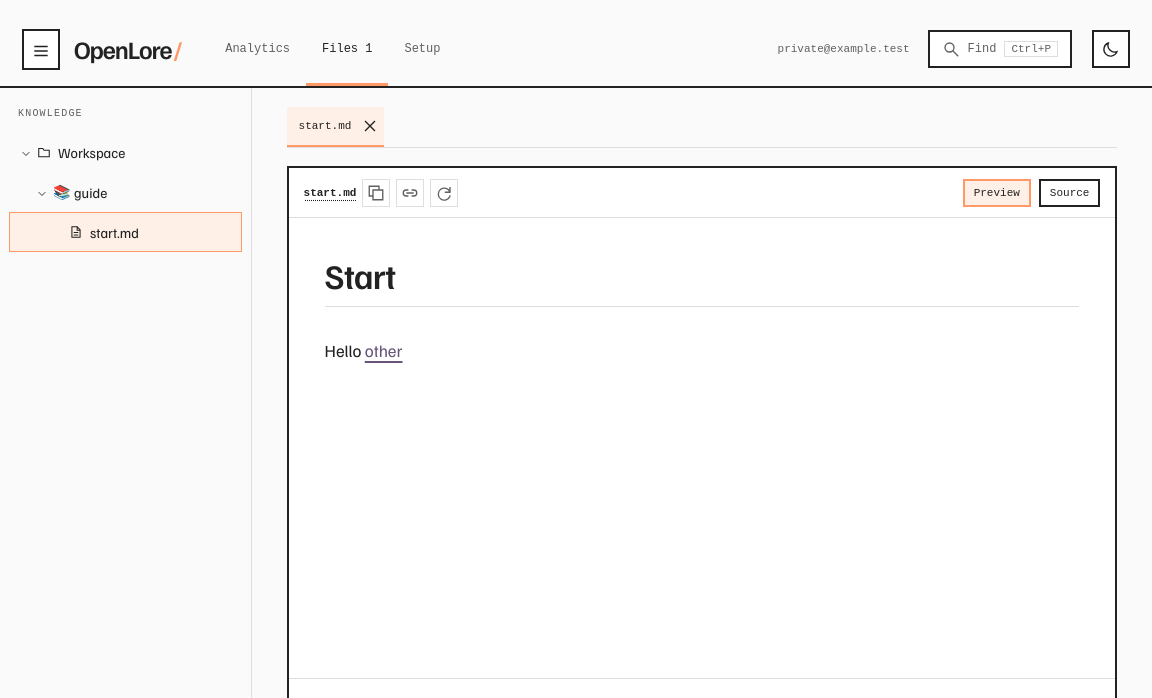
Test: filename path tooltip does not navigate away from the open file
Click the button with aria-label "Show path for start.md": [330, 192] box left=304, top=178, right=356, bottom=206
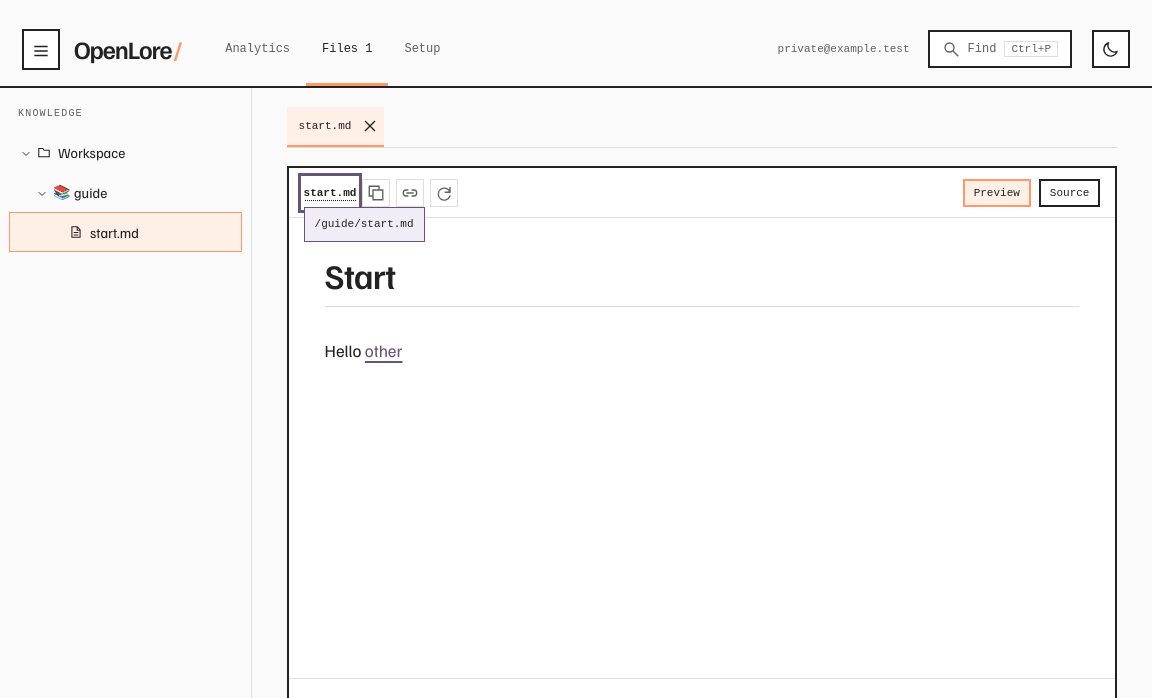
Check: the heading "Start" is shown, box left=324, top=254, right=1079, bottom=307
Check: the tooltip reads "/guide/start.md", box left=314, top=218, right=414, bottom=230
